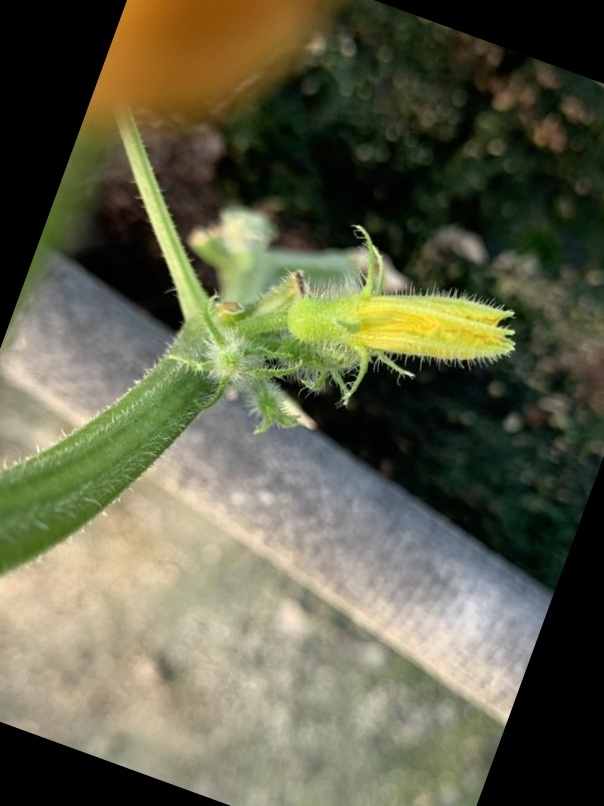bud: (273, 252, 517, 392)
